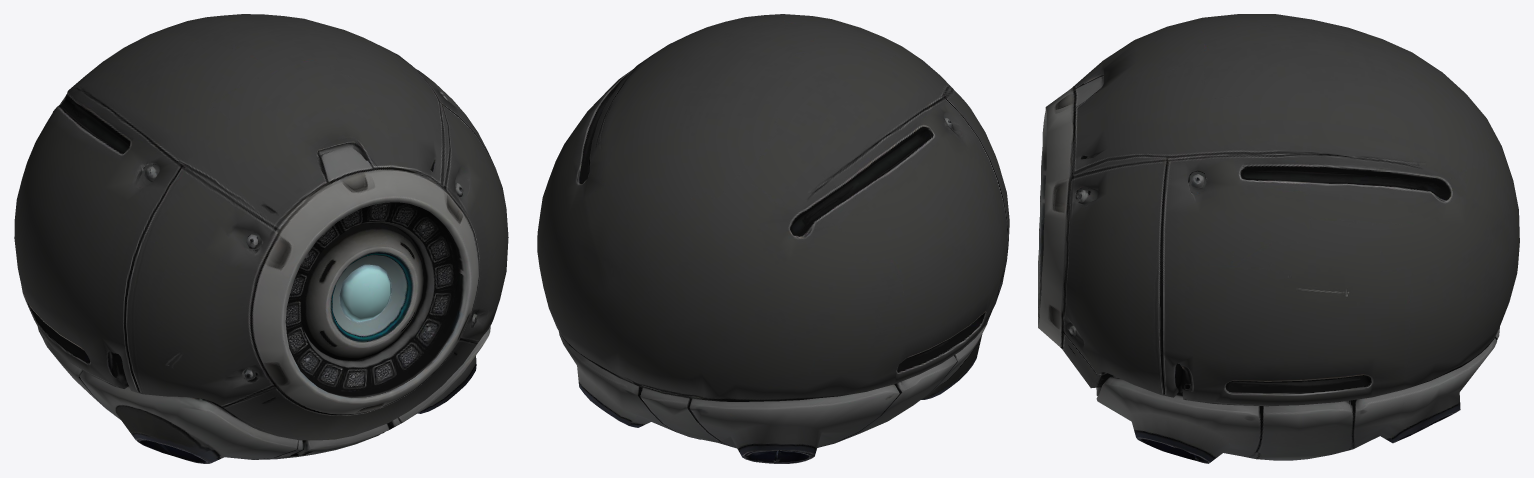
Rendered from selected.glb.
3 views of the same model, side by side, from view 1: azimuth 30°, elevation 25°; view 2: azimuth 150°, elevation 25°; view 3: azimuth 270°, elevation 25° (orthographic). The views are drawn at different scales.
Visible parts, largest first — view 1: tripo_node_33a3cf06-07ed-47ec-a9b3-32bbd798710a; view 2: tripo_node_33a3cf06-07ed-47ec-a9b3-32bbd798710a; view 3: tripo_node_33a3cf06-07ed-47ec-a9b3-32bbd798710a.
Part boxes in pixels (<box>): tripo_node_33a3cf06-07ed-47ec-a9b3-32bbd798710a: <box>14,14,508,463</box>; tripo_node_33a3cf06-07ed-47ec-a9b3-32bbd798710a: <box>537,14,1009,463</box>; tripo_node_33a3cf06-07ed-47ec-a9b3-32bbd798710a: <box>1038,14,1519,463</box>.
Size of the model in its own units: 0.998 by 0.9043 by 0.998.
Materials: 1 (1 with a texture image).
